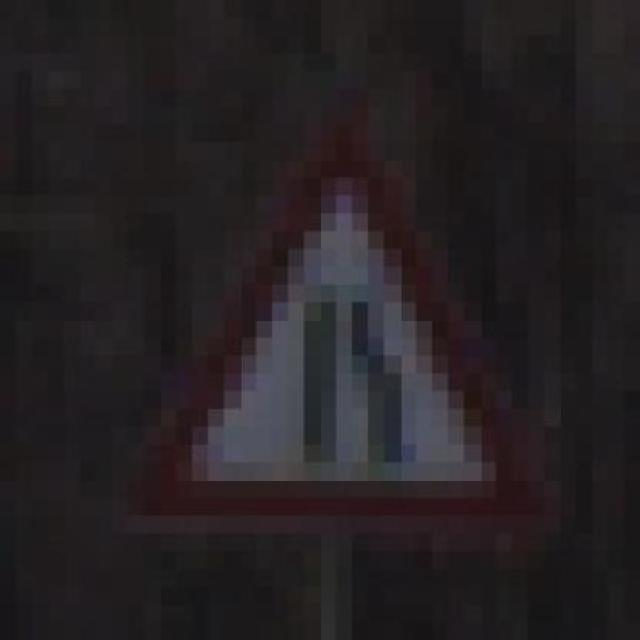-Road narrows on right: (128, 107, 560, 551)
